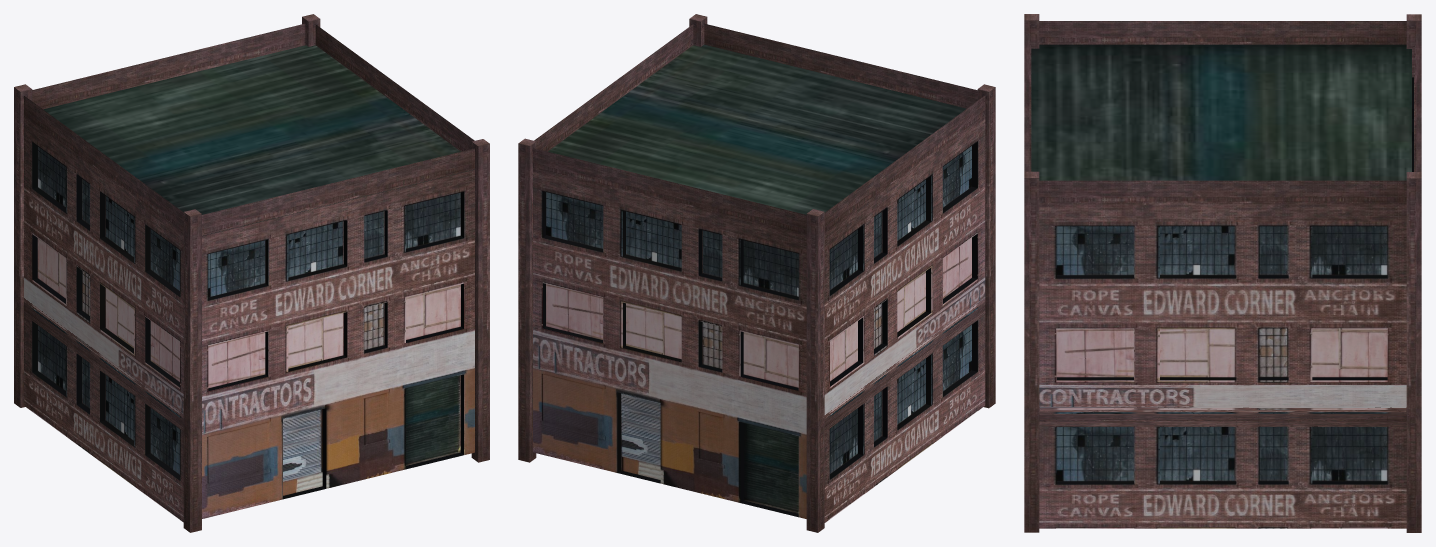
3 views of the same model, side by side, from view 1: azimuth 30°, elevation 25°; view 2: azimuth 150°, elevation 25°; view 3: azimuth 270°, elevation 25° (orthographic). The views are drawn at different scales.
Parts seen in each view (by area): view 1: Cube.020; view 2: Cube.020; view 3: Cube.020.
Boxes of the visible parts, bbox=[...] form: Cube.020: bbox=[14, 14, 489, 532]; Cube.020: bbox=[518, 14, 995, 532]; Cube.020: bbox=[1024, 14, 1421, 532].
Bounding box in the file's own units: 2.54 × 2.56 × 2.59.
Materials: 1 (1 with a texture image).
